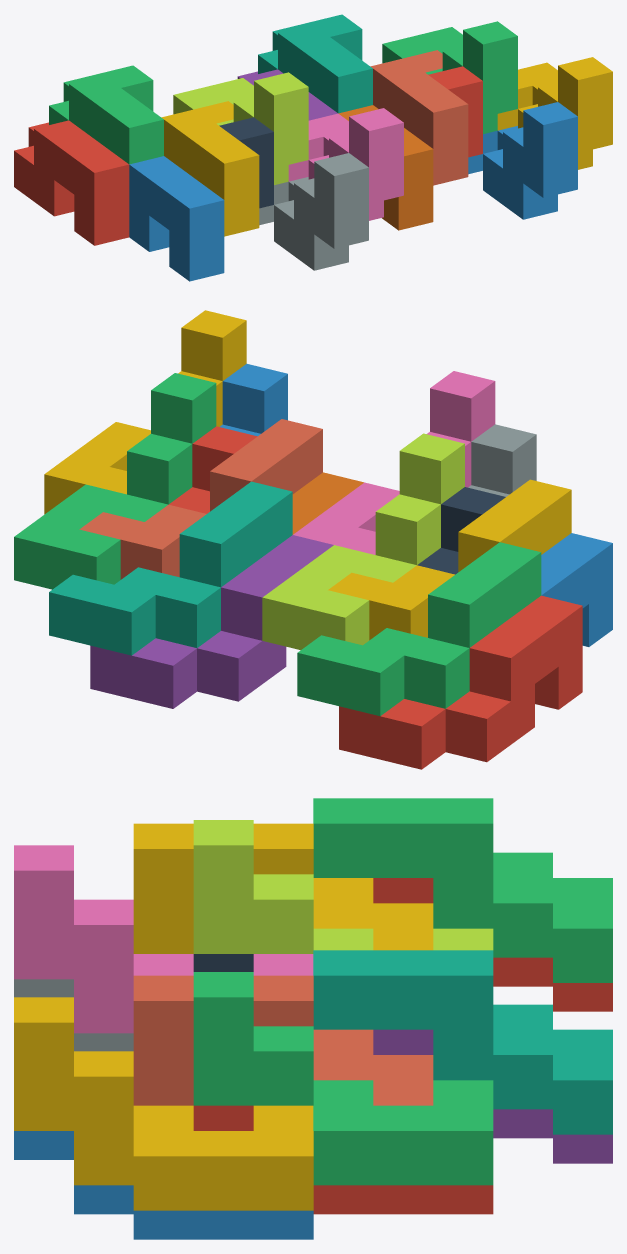
File: tiling.obj
The picture shows the model from 3 angles, top to bottom: view 1: azimuth 30°, elevation 25°; view 2: azimuth 150°, elevation 25°; view 3: azimuth 270°, elevation 25°; orthographic projection. The views are drawn at different scales.
Parts seen in each view (by area): view 1: copy_1_domain_1, copy_1_domain_2, copy_2_domain_2, copy_2_domain_6, copy_1_domain_4, copy_1_domain_8, copy_1_domain_3, copy_1_domain_7, copy_2_domain_4, copy_2_domain_3, copy_2_domain_7, copy_2_domain_8 (+4 smaller); view 2: copy_1_domain_1, copy_1_domain_3, copy_1_domain_7, copy_2_domain_3, copy_2_domain_7, copy_1_domain_5, copy_1_domain_8, copy_1_domain_4, copy_2_domain_8, copy_2_domain_4, copy_1_domain_2, copy_2_domain_2 (+4 smaller); view 3: copy_2_domain_8, copy_2_domain_7, copy_1_domain_7, copy_1_domain_3, copy_2_domain_4, copy_1_domain_8, copy_1_domain_4, copy_2_domain_3, copy_2_domain_6, copy_2_domain_5, copy_1_domain_5, copy_1_domain_1 (+2 smaller).
Part boxes in pixels (box(x1,y1,x2,y2)): copy_1_domain_1: box(14, 120, 129, 245); copy_1_domain_2: box(129, 156, 224, 281); copy_2_domain_2: box(259, 153, 368, 270); copy_2_domain_6: box(468, 102, 577, 219); copy_1_domain_4: box(161, 101, 259, 236); copy_1_domain_8: box(370, 50, 468, 185); copy_1_domain_3: box(49, 65, 163, 164); copy_1_domain_7: box(258, 14, 372, 113); copy_2_domain_4: box(288, 108, 403, 220); copy_2_domain_3: box(173, 72, 308, 184); copy_2_domain_7: box(382, 21, 517, 133); copy_2_domain_8: box(497, 57, 612, 169); copy_1_domain_1: box(339, 595, 582, 769); copy_1_domain_3: box(297, 542, 541, 716); copy_1_domain_7: box(49, 481, 292, 655); copy_2_domain_3: box(262, 433, 464, 650); copy_2_domain_7: box(14, 373, 216, 589); copy_1_domain_5: box(90, 535, 333, 708); copy_1_domain_8: box(79, 419, 322, 579); copy_1_domain_4: box(328, 479, 571, 640); copy_2_domain_8: box(44, 310, 246, 514); copy_2_domain_4: box(293, 371, 495, 554); copy_1_domain_2: box(541, 533, 612, 646); copy_2_domain_2: box(468, 424, 536, 496); copy_2_domain_8: box(14, 997, 313, 1210); copy_2_domain_7: box(193, 972, 493, 1185); copy_1_domain_7: box(313, 950, 612, 1134); copy_1_domain_3: box(313, 798, 612, 982); copy_2_domain_4: box(14, 845, 313, 1033); copy_1_domain_8: box(133, 975, 433, 1105); copy_1_domain_4: box(133, 823, 433, 953); copy_2_domain_3: box(193, 820, 493, 953); copy_2_domain_6: box(14, 1131, 313, 1239); copy_2_domain_5: box(193, 1105, 493, 1214); copy_1_domain_5: box(373, 1029, 612, 1163); copy_1_domain_1: box(373, 878, 612, 1011).
Bounding box in the file's own units: 13 × 4 × 10.
